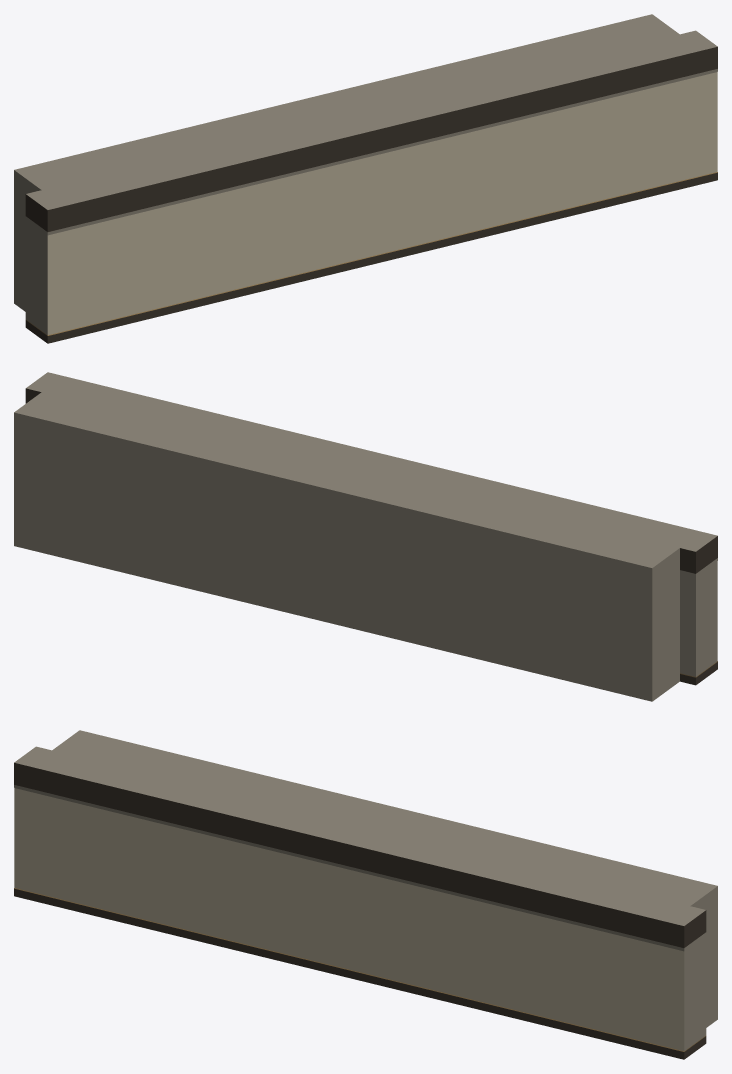
Rendered from mall-shop-door-header-2m-lod2.glb.
3 views of the same model, one above another, from view 1: azimuth 30°, elevation 25°; view 2: azimuth 150°, elevation 25°; view 3: azimuth 330°, elevation 25° (orthographic).
Visible parts, largest first — view 1: Stepped lintel and bronze returns LOD2; view 2: Stepped lintel and bronze returns LOD2; view 3: Stepped lintel and bronze returns LOD2.
Boxes of the visible parts, x1,y1,x2,y2 form: Stepped lintel and bronze returns LOD2: (14, 14, 717, 343); Stepped lintel and bronze returns LOD2: (14, 372, 717, 701); Stepped lintel and bronze returns LOD2: (14, 730, 717, 1059).
Size of the model in its own units: 2.1 by 0.4 by 0.27.
